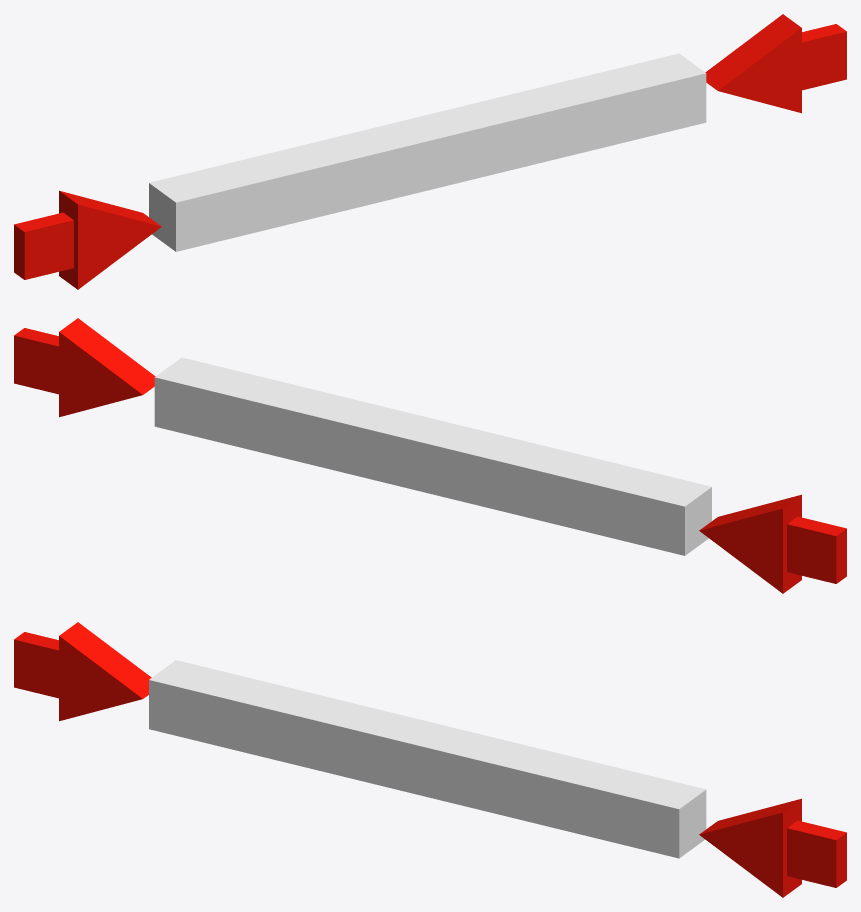
The model's file is paddle_size_down_final.fbx.
3 renders of one model, top to bottom at view 1: azimuth 30°, elevation 25°; view 2: azimuth 150°, elevation 25°; view 3: azimuth 330°, elevation 25°, orthographic.
Visible parts, largest first — view 1: Paddle Size Down; view 2: Paddle Size Down; view 3: Paddle Size Down.
Part boxes in pixels (x1,y1,x2,y2): Paddle Size Down: (14, 14, 846, 289); Paddle Size Down: (14, 318, 846, 593); Paddle Size Down: (14, 622, 846, 897).
Bounding box in the file's own units: 175 × 17.34 × 10.
